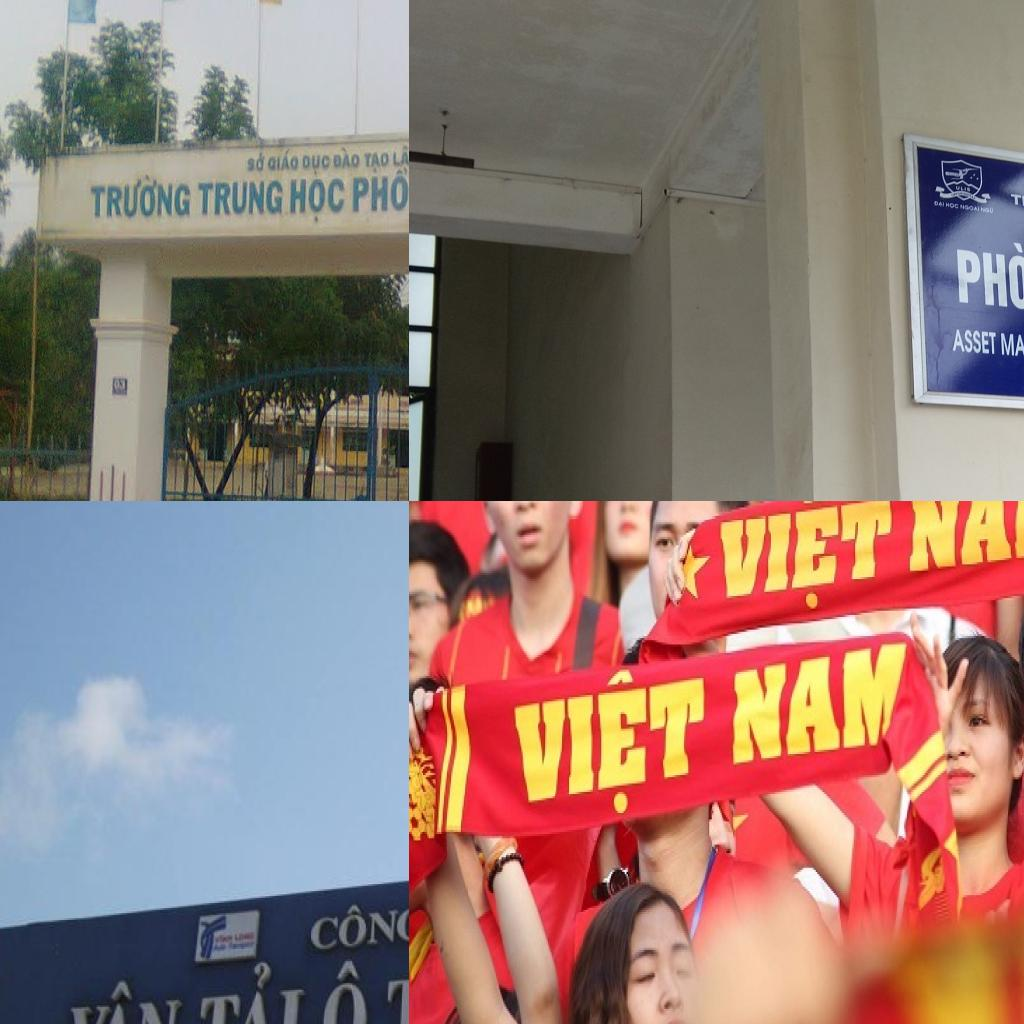text: (507, 655, 715, 826), (715, 501, 896, 625), (900, 501, 1024, 577), (197, 959, 309, 1024), (306, 897, 409, 957), (952, 236, 1024, 316), (64, 979, 185, 1024), (90, 172, 193, 222), (196, 178, 286, 216), (320, 957, 370, 1024), (351, 166, 409, 216), (288, 176, 347, 224), (950, 326, 997, 356), (999, 331, 1024, 364), (266, 150, 300, 174), (302, 152, 331, 178), (333, 147, 361, 171), (363, 151, 390, 174), (246, 151, 267, 174), (392, 144, 409, 168), (1009, 191, 1024, 216), (960, 204, 980, 214), (954, 185, 972, 193), (945, 202, 960, 211), (980, 206, 995, 215), (932, 200, 946, 208)
